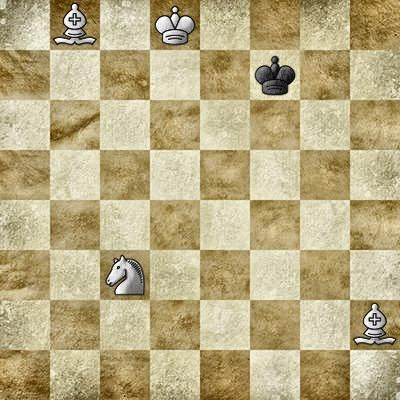black-king: (250, 50, 300, 100)
white-bishop: (50, 0, 100, 50), (350, 300, 400, 350)
white-king: (150, 0, 200, 50)
white-knight: (100, 250, 150, 300)
